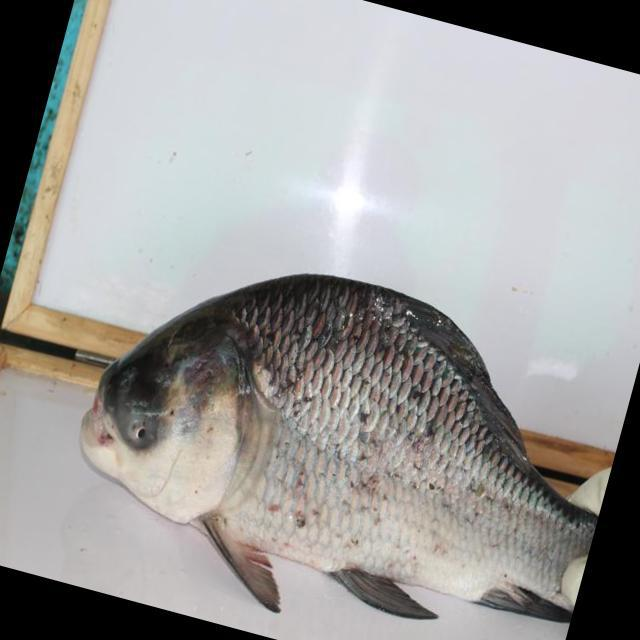Catla: (75, 269, 600, 640)
